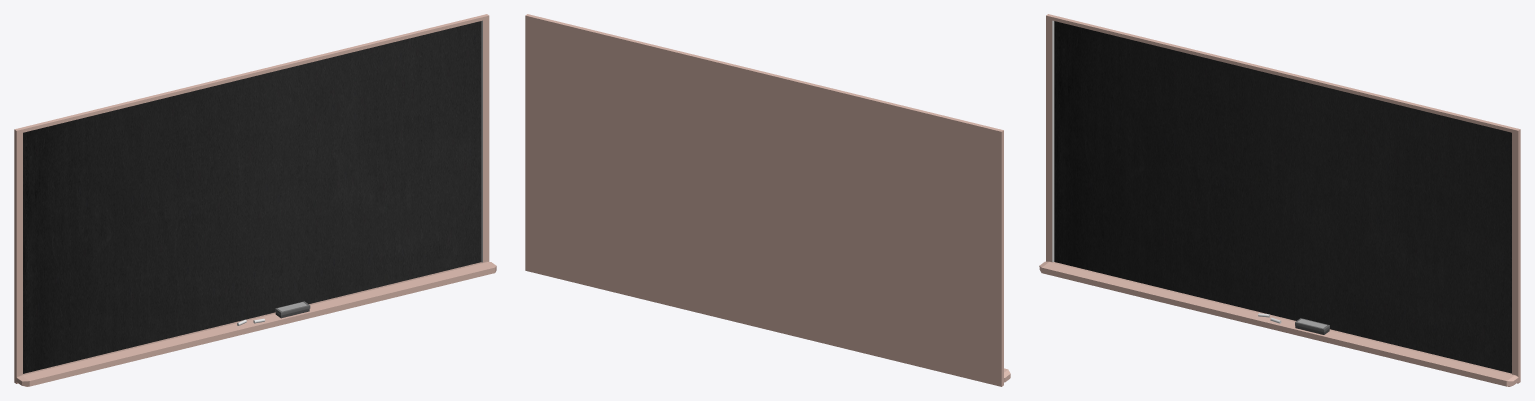
The model's file is chalkboard.fbx.
The picture shows the model from 3 angles, left to right: view 1: azimuth 30°, elevation 25°; view 2: azimuth 150°, elevation 25°; view 3: azimuth 330°, elevation 25°; orthographic projection.
Parts seen in each view (by area): view 1: pCube4, pCube2; view 2: pCube4; view 3: pCube4, pCube2.
Boxes of the visible parts, x1=… form: pCube4: x1=14, y1=14, x2=489, y2=383; pCube2: x1=16, y1=261, x2=496, y2=386; pCube4: x1=525, y1=14, x2=1003, y2=386; pCube4: x1=1046, y1=14, x2=1520, y2=383; pCube2: x1=1039, y1=261, x2=1518, y2=386.
Bounding box in the file's own units: 202 × 103 × 8.08.
6 materials, 1 textured.
